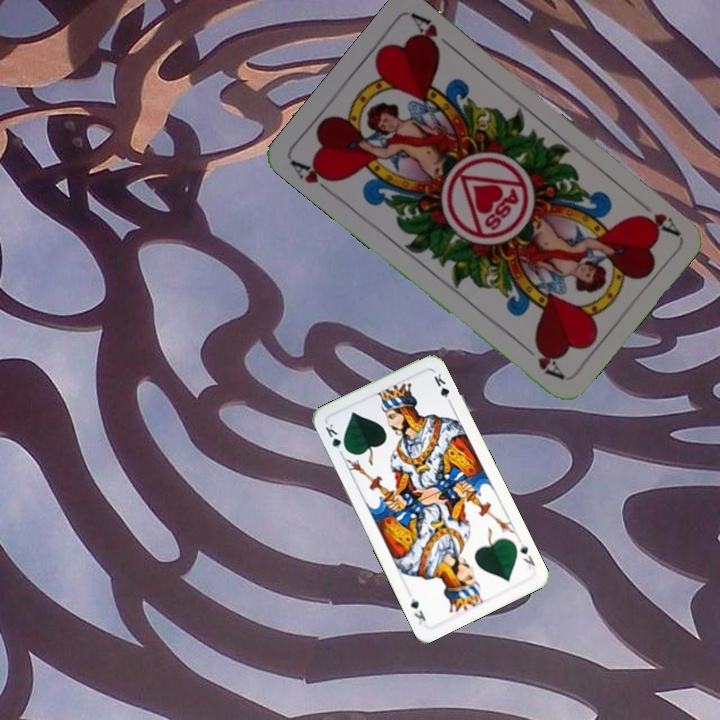GK: (321, 420, 350, 455), (516, 539, 538, 572)
HA: (287, 156, 340, 199), (631, 196, 681, 238)
